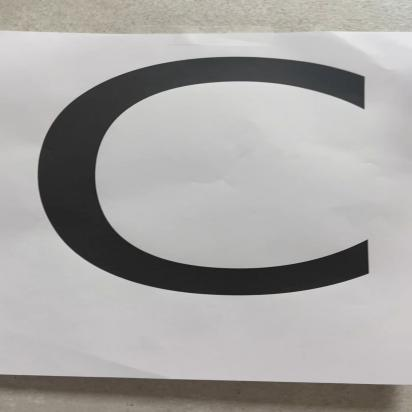seat: (0, 29, 412, 380)
